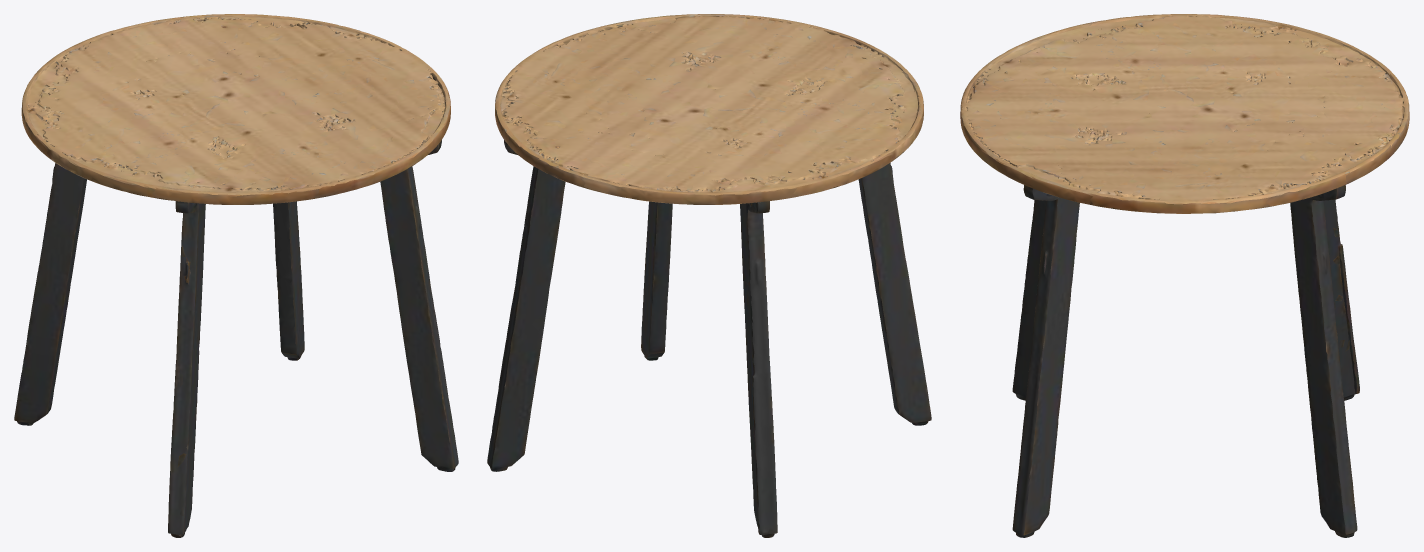
3 views of the same model, side by side, from view 1: azimuth 30°, elevation 25°; view 2: azimuth 150°, elevation 25°; view 3: azimuth 270°, elevation 25° (orthographic). The views are drawn at different scales.
Visible parts, largest first — view 1: Orientation correction; view 2: Orientation correction; view 3: Orientation correction.
Part boxes in pixels (bbox=[...]): Orientation correction: bbox=[14, 14, 458, 537]; Orientation correction: bbox=[487, 14, 931, 537]; Orientation correction: bbox=[960, 14, 1409, 537].
Size of the model in its own units: 0.85 by 0.75 by 0.85.
Materials: 1 (1 with a texture image).
